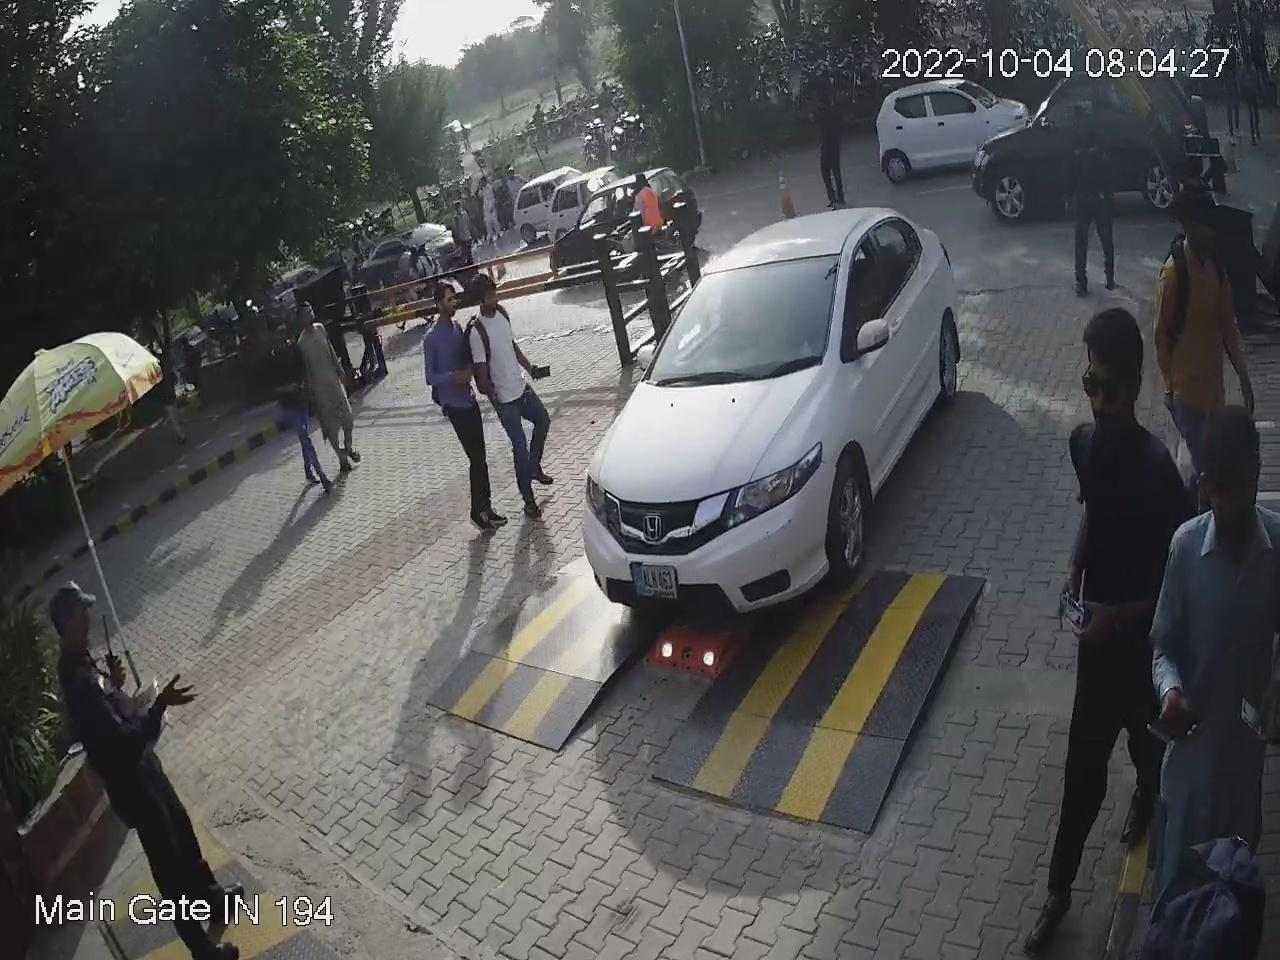windshield: (643, 235, 846, 382)
